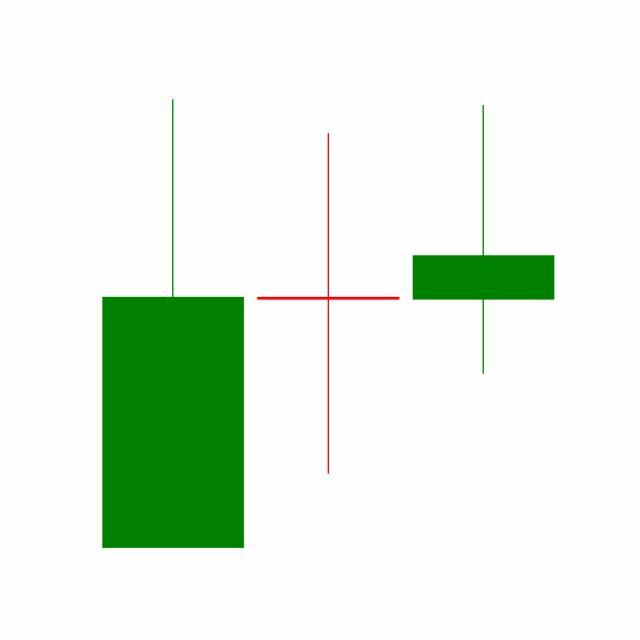Spinning Top: (406, 102, 562, 378)
